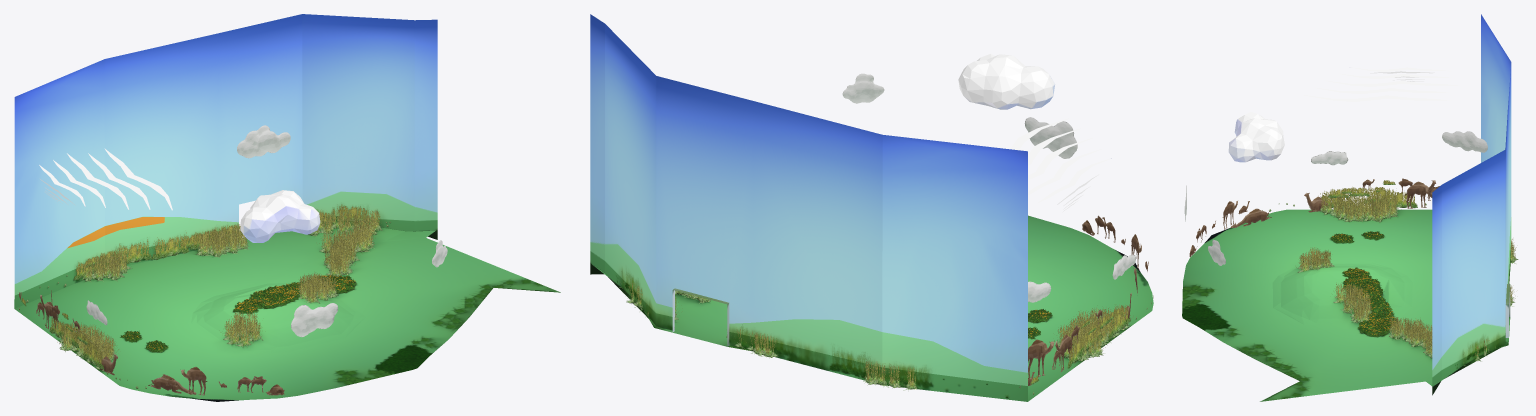
The picture shows the model from 3 angles, left to right: view 1: azimuth 30°, elevation 25°; view 2: azimuth 150°, elevation 25°; view 3: azimuth 270°, elevation 25°; orthographic projection. The views are drawn at different scales.
Size of the model in its own units: 28.86 by 13.83 by 20.94.
8 materials, 8 textured.
